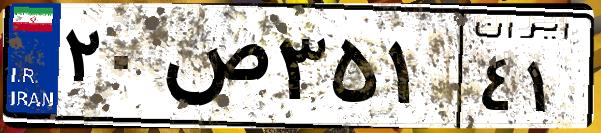0: (110, 28, 158, 98)
1: (385, 28, 445, 110), (525, 38, 570, 115)
2: (57, 26, 110, 100)
3: (270, 28, 330, 110)
4: (475, 38, 525, 113)
5: (330, 28, 385, 110)
ص: (158, 20, 270, 120)
